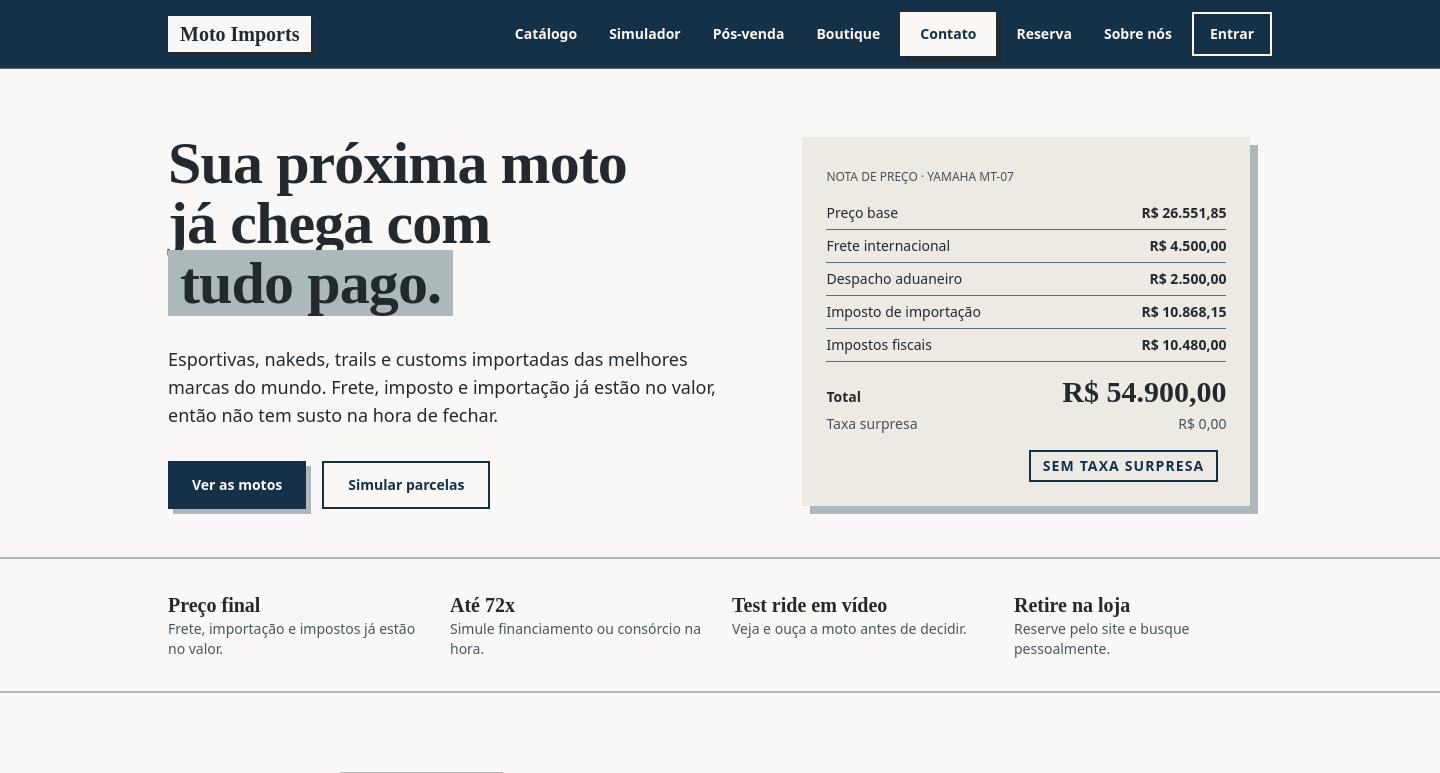
login com Google › o menu mostra "Entrar" para visitante e o nome com "Sair" para quem entrou
The width and height of the screenshot is (1440, 773).
Click the button "Entrar".
click(1232, 34)  # box [1192, 12, 1272, 56]
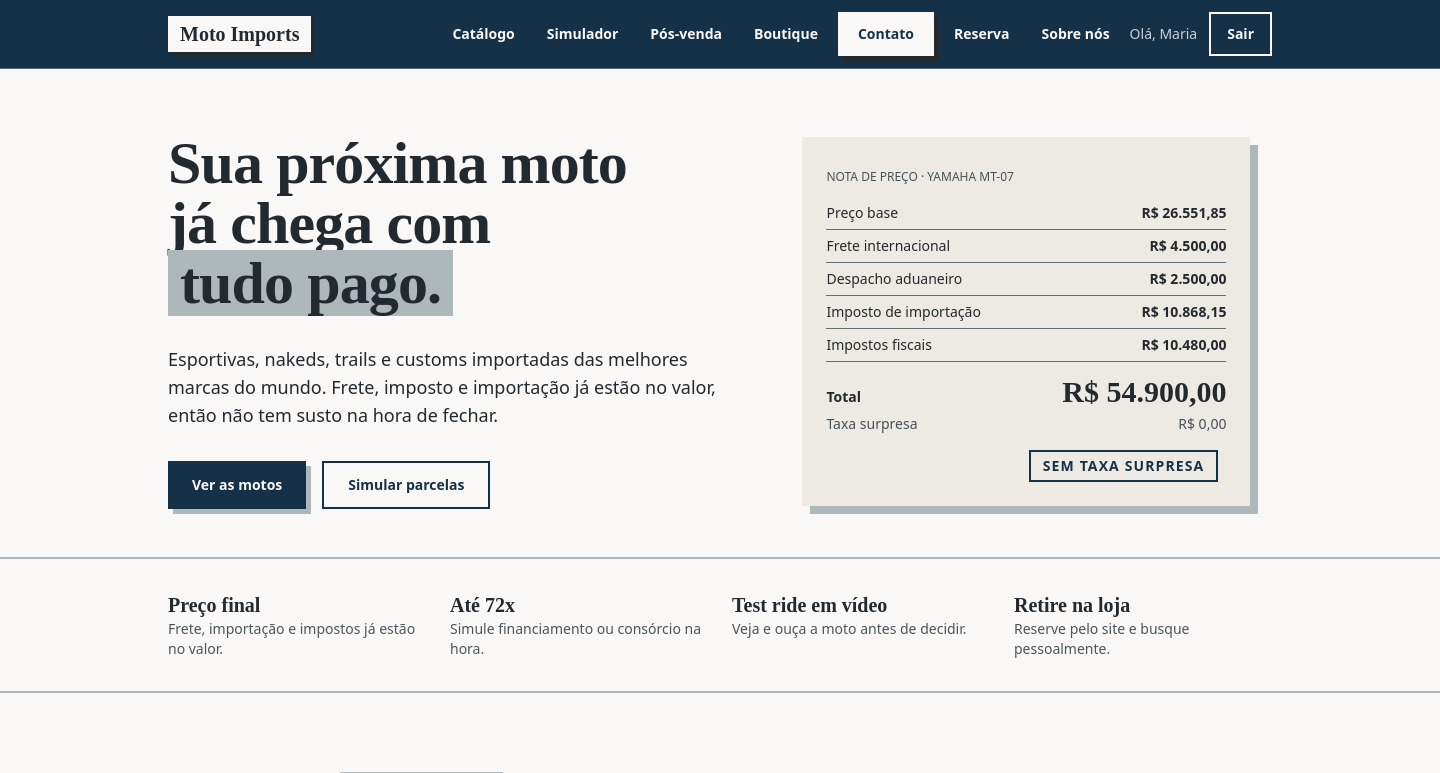
expect the text "Olá, Maria" is shown: met, box [1130, 24, 1197, 44]
expect the button "Sair" is shown: met, box [1209, 12, 1272, 56]
